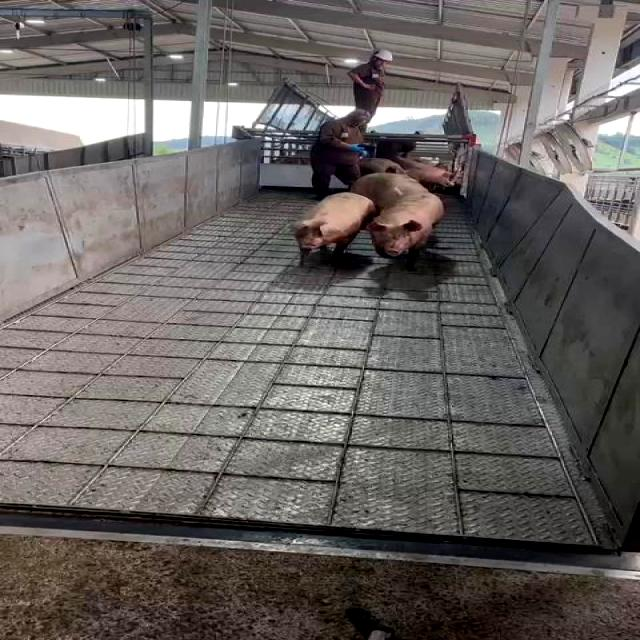pig: (294, 193, 377, 263), (369, 194, 443, 268), (350, 172, 426, 209)
